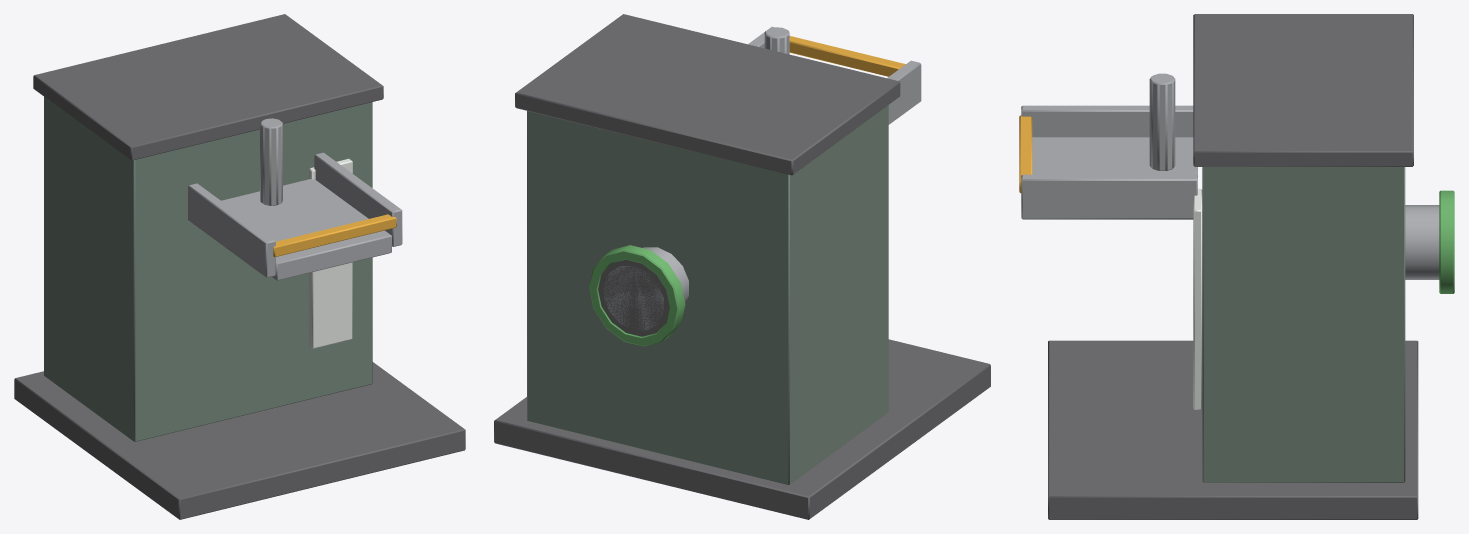
Rendered from feFluidBottler.fbx.
The picture shows the model from 3 angles, left to right: view 1: azimuth 30°, elevation 25°; view 2: azimuth 150°, elevation 25°; view 3: azimuth 270°, elevation 25°; orthographic projection. The views are drawn at different scales.
Parts seen in each view (by area): view 1: feFluidBottler_Base; view 2: feFluidBottler_Base; view 3: feFluidBottler_Base.
Boxes of the visible parts, x1,y1,x2,y2 form: feFluidBottler_Base: (14,14,465,519); feFluidBottler_Base: (494,14,990,519); feFluidBottler_Base: (1019,14,1454,519).
Size of the model in its own units: 0.84 by 0.91 by 0.9875.
